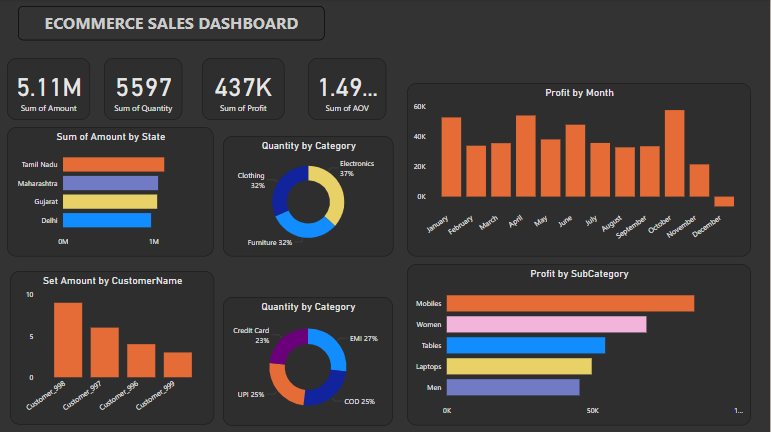

The dashboard page shown, as its layout file describes it:
{"tool":"powerbi","page":{"name":"Page 1","canvas":[1280,720],"ordinal":0},"visuals":[{"type":"textbox","box":[32.1,11.2,509.5,57.2],"z":0},{"type":"columnChart","title":" Profit by Month","fields":{"Y":["Sum(Order_Details_Table.Profit)"],"Category":["Order_Table.Order Date.Variation.Date Hierarchy.Month"]},"box":[677,139.6,570.9,287.5],"z":1000},{"type":"barChart","title":"Profit by SubCategory","fields":{"Category":["Order_Details_Table.SubCategory"],"Y":["Sum(Order_Details_Table.Profit)"]},"box":[677,439.7,570.9,268],"z":2000},{"type":"donutChart","title":"Quantity by Category","fields":{"Category":["Order_Details_Table.Category"],"Y":["Sum(Order_Details_Table.Quantity)"]},"box":[371.3,227.5,283.4,199.6],"z":3000},{"type":"donutChart","title":"Quantity by Category","fields":{"Y":["Sum(Order_Details_Table.Quantity)"],"Category":["Order_Details_Table.Payment Mode"]},"box":[372.7,494.1,282,213.6],"z":4000},{"type":"card","fields":{"Values":["Sum(Order_Details_Table.Amount)"]},"box":[14,97.7,138.2,103.3],"z":5000},{"type":"card","fields":{"Values":["Sum(Order_Details_Table.Quantity)"]},"box":[174.5,97.7,129.8,103.3],"z":6000},{"type":"card","fields":{"Values":["Sum(Order_Details_Table.Profit)"]},"box":[336.4,97.7,136.8,103.3],"z":7000},{"type":"card","fields":{"Values":["Sum(Order_Details_Table.AOV)"]},"box":[513.7,97.7,129.8,103.3],"z":8000},{"type":"barChart","title":"Sum of Amount by State","fields":{"Category":["Order_Table.State"],"Y":["Sum(Order_Details_Table.Amount)"]},"box":[14,212.2,343.4,215],"z":9000},{"type":"columnChart","title":"Set Amount by CustomerName","fields":{"Category":["Order_Table.Customer Name"],"Y":["Sum(Order_Details_Table.Quantity)"]},"box":[18.1,452.3,339.2,255.4],"z":10000}]}

Visuals, with their boxes in screenshot pixels (x1, y1, x2, y2), scaled from the page's 1280x720 canvas onto the 771x432 screenshot:
textbox: (19,7,326,41)
" Profit by Month" columnChart: (408,84,752,256)
"Profit by SubCategory" barChart: (408,264,752,425)
"Quantity by Category" donutChart: (224,136,394,256)
"Quantity by Category" donutChart: (224,296,394,425)
card - Sum(Order_Details_Table.Amount): (8,59,92,121)
card - Sum(Order_Details_Table.Quantity): (105,59,183,121)
card - Sum(Order_Details_Table.Profit): (203,59,285,121)
card - Sum(Order_Details_Table.AOV): (309,59,388,121)
"Sum of Amount by State" barChart: (8,127,215,256)
"Set Amount by CustomerName" columnChart: (11,271,215,425)
